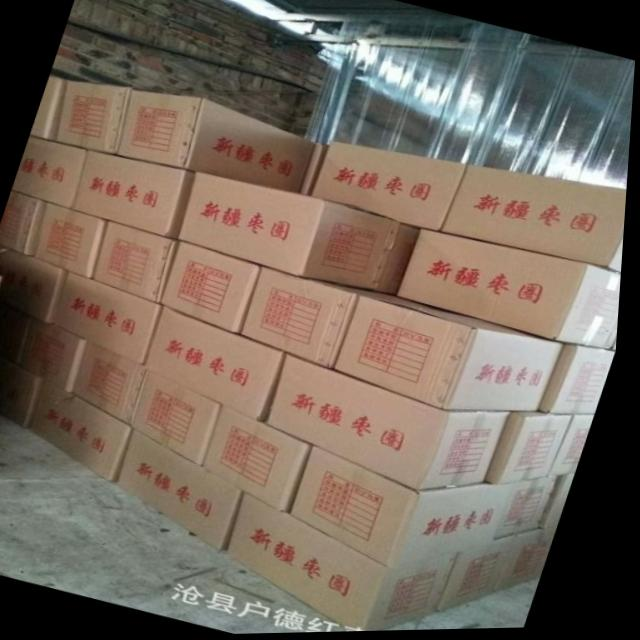box: (270, 357, 518, 493), (233, 494, 466, 633), (182, 172, 423, 296), (296, 449, 521, 568), (404, 231, 625, 352), (339, 297, 565, 413), (118, 90, 320, 196), (445, 166, 629, 276), (243, 267, 405, 371), (151, 307, 291, 423), (121, 430, 246, 552), (313, 140, 469, 234), (202, 403, 316, 516), (29, 377, 140, 485), (75, 147, 197, 241), (53, 271, 165, 367), (163, 241, 266, 337), (137, 371, 225, 467), (92, 221, 178, 304), (78, 342, 155, 428), (36, 201, 110, 280), (502, 412, 578, 486), (450, 538, 523, 613), (59, 82, 130, 157), (22, 317, 90, 392), (545, 347, 616, 417), (17, 137, 86, 209), (0, 246, 67, 320), (499, 481, 565, 542), (0, 354, 45, 428), (0, 191, 49, 257), (0, 302, 35, 364), (36, 77, 68, 142)
